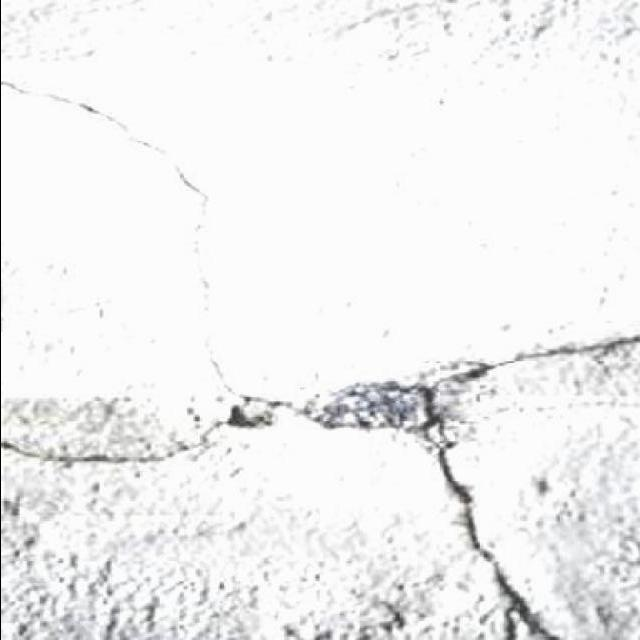SurfaceCrack: (30, 322, 630, 640)
